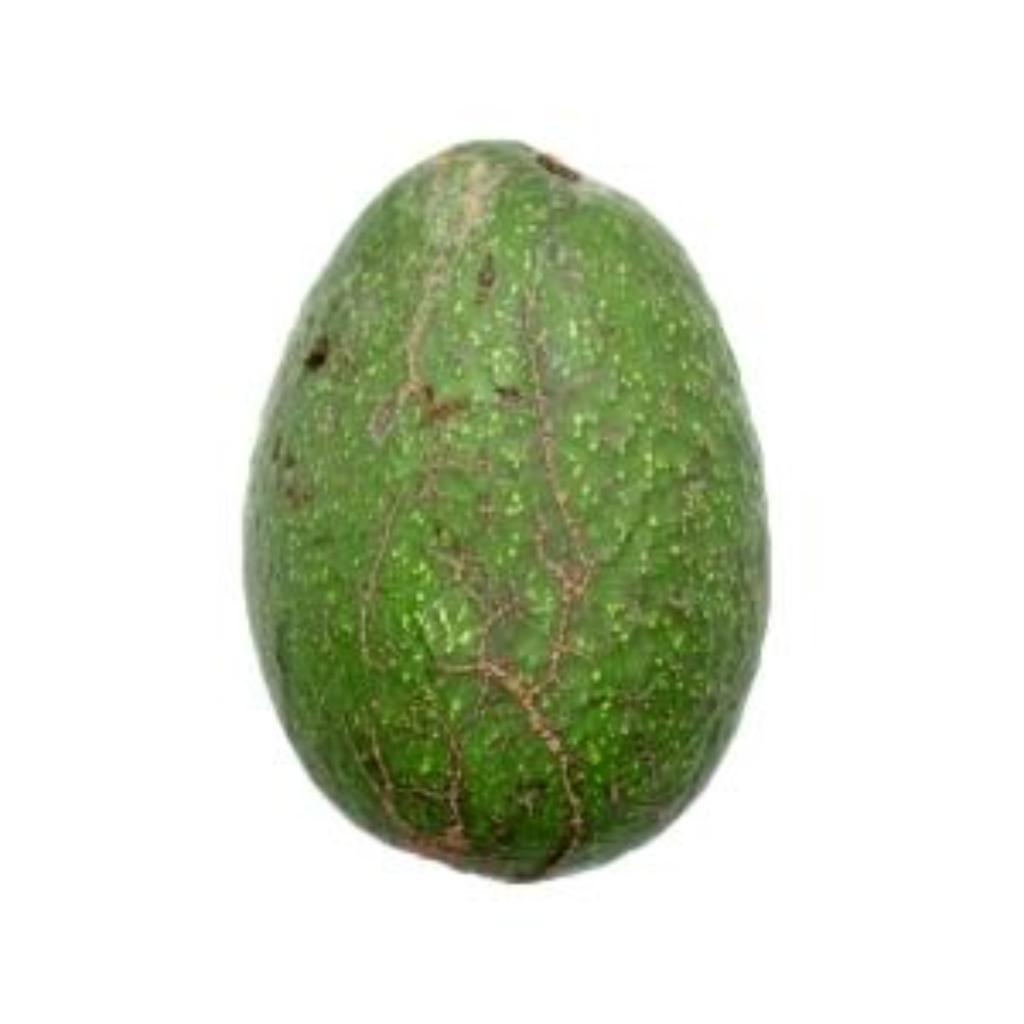cercospora_spot: (189, 131, 841, 889)
